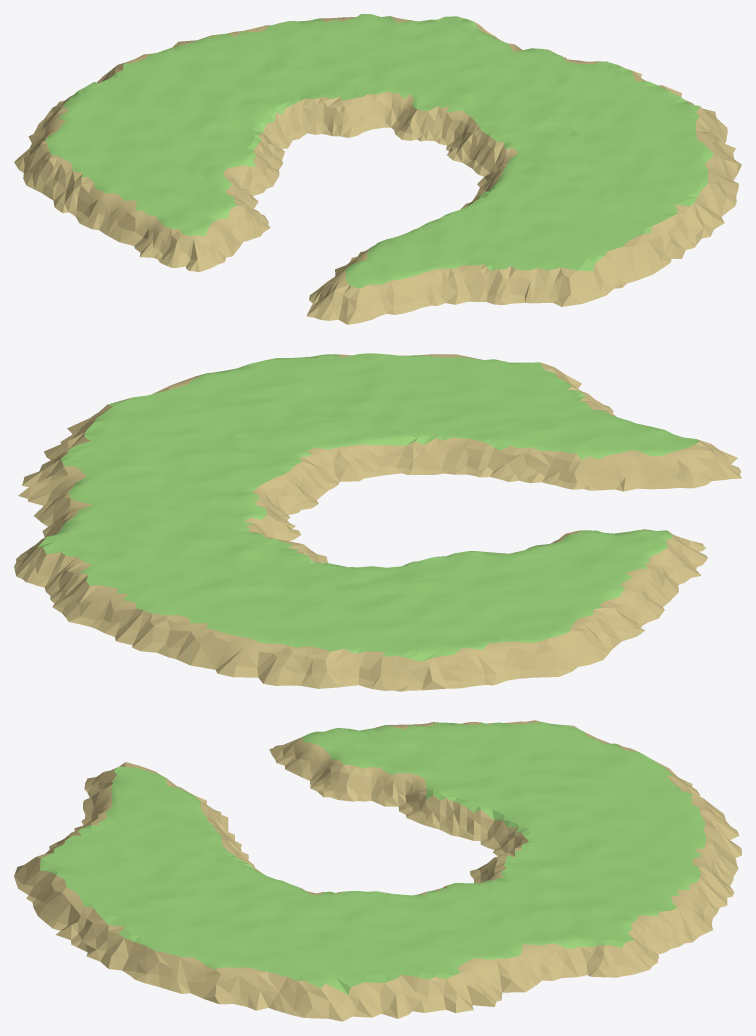
File: Smoothed Mesh.fbx
3 views of the same model, one above another, from view 1: azimuth 30°, elevation 25°; view 2: azimuth 150°, elevation 25°; view 3: azimuth 270°, elevation 25° (orthographic). The views are drawn at different scales.
Visible parts, largest first — view 1: CPT_Island_H_a_06_LOD0; view 2: CPT_Island_H_a_06_LOD0; view 3: CPT_Island_H_a_06_LOD0.
Boxes of the visible parts, x1=… form: CPT_Island_H_a_06_LOD0: x1=14, y1=14, x2=741, y2=324; CPT_Island_H_a_06_LOD0: x1=14, y1=353, x2=741, y2=691; CPT_Island_H_a_06_LOD0: x1=14, y1=720, x2=741, y2=1021.
Size of what is drawn, in the model's own units: 39823 by 1566 by 41985.
Materials: 1 (1 with a texture image).
